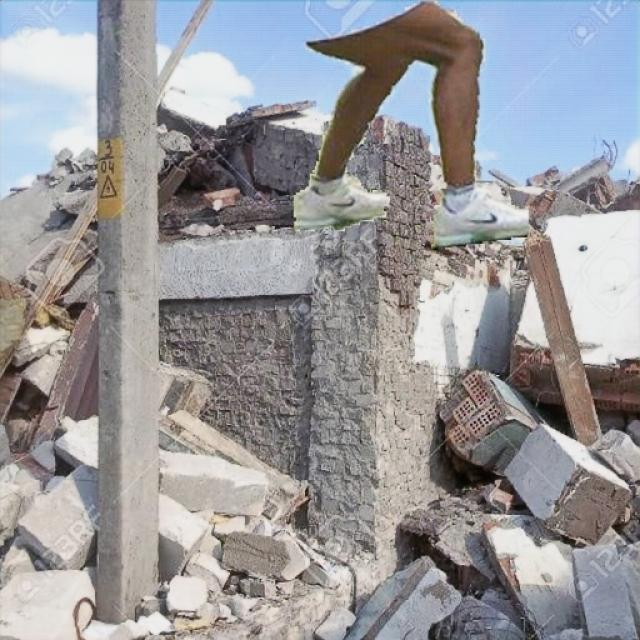Person in Rubble: (292, 1, 528, 249)
